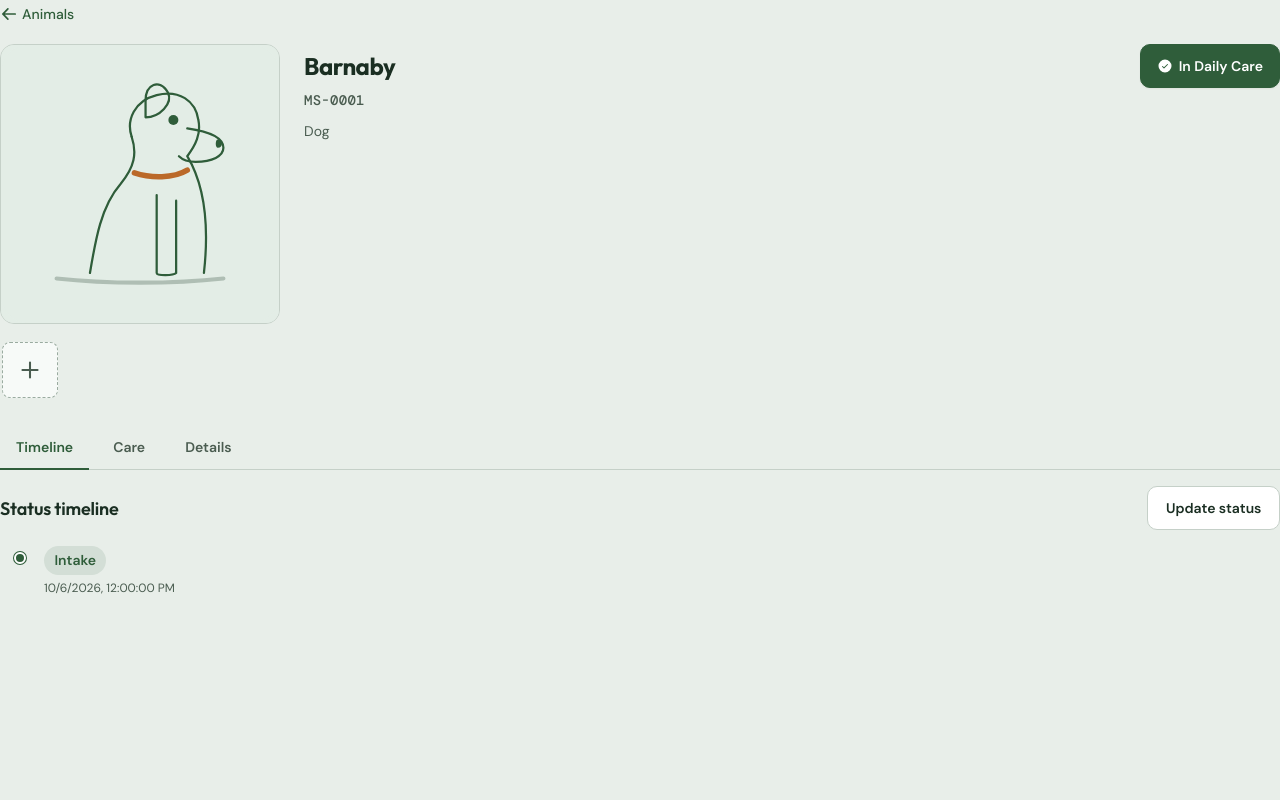
Log care form in ResponsiveSheetModal › opens care form in ResponsiveSheetModal dialog when Log care is clicked
The width and height of the screenshot is (1280, 800).
Click the tab "Care". click: (129, 448)
box: [97,426,161,470]
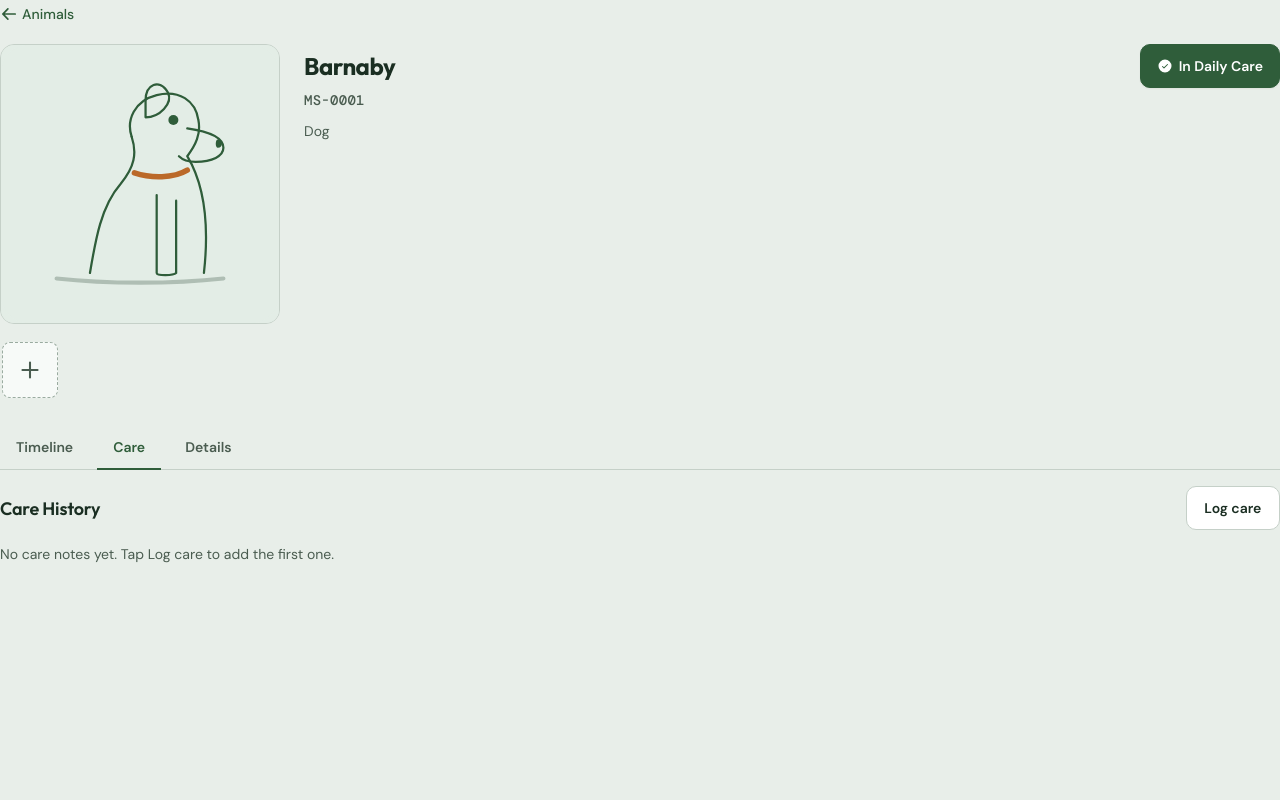
Click the button "Log care". click: (1233, 508)
box: [1186,486,1279,530]
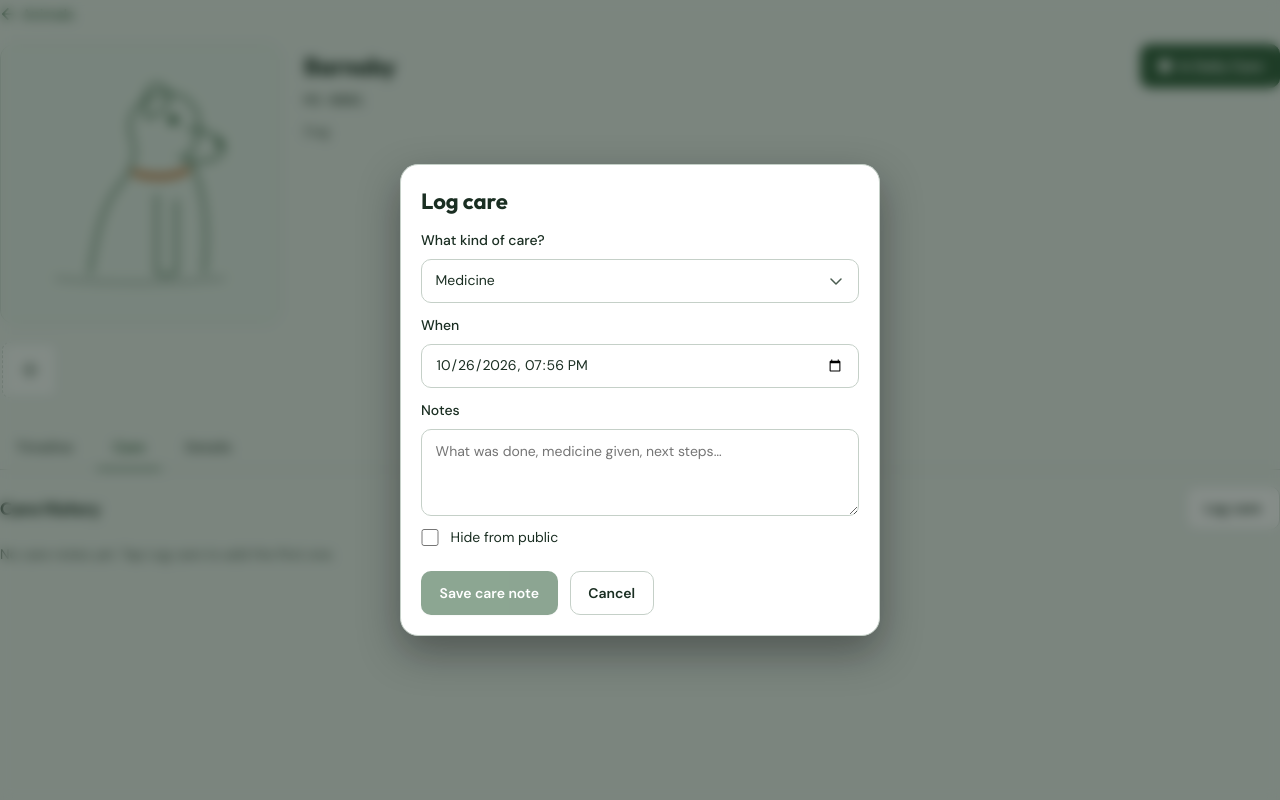
Now the dialog is shown
Now the heading "Log care" is shown, box [421,184,508,218]
Now the button named "What kind of care?" is shown, box [421,258,859,302]
